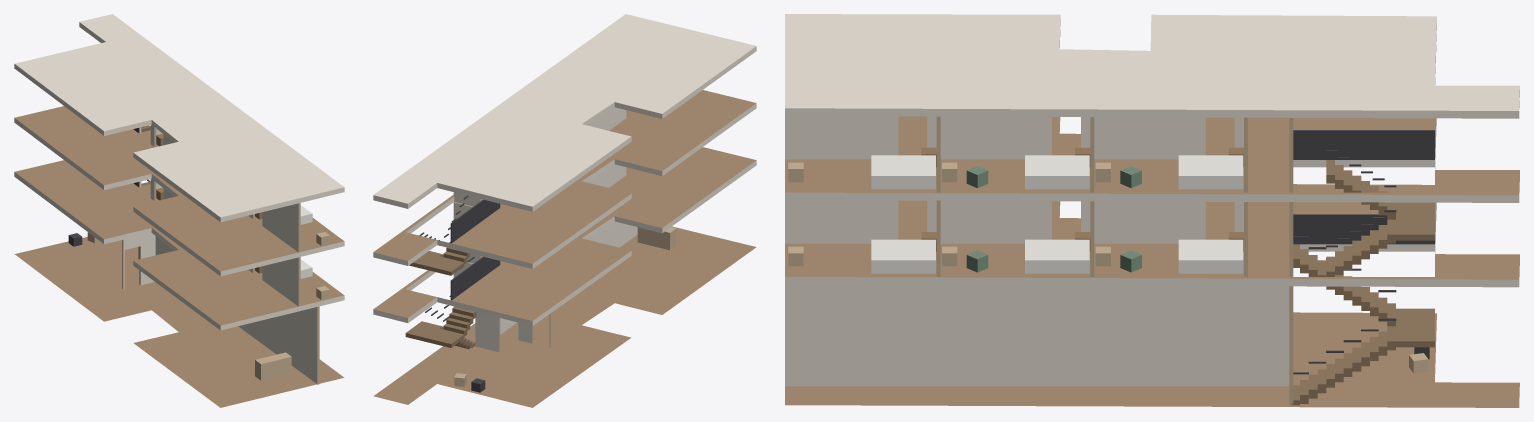
The model's file is interior.glb.
3 renders of one model, left to right at view 1: azimuth 30°, elevation 25°; view 2: azimuth 150°, elevation 25°; view 3: azimuth 270°, elevation 25°, orthographic. The views are drawn at different scales.
Visible parts, largest first — view 1: slabs, partitions, coarse-s0, coarse-s1, coarse-s2; view 2: slabs, stair, partitions, coarse-s0; view 3: slabs, partitions, stair, coarse-s2, coarse-s1.
Part boxes in pixels (x1=…): slabs: x1=14, y1=14, x2=344, y2=407; partitions: x1=122, y1=124, x2=319, y2=384; coarse-s0: x1=68, y1=232, x2=291, y2=380; coarse-s1: x1=156, y1=187, x2=329, y2=299; coarse-s2: x1=156, y1=133, x2=329, y2=245; slabs: x1=373, y1=14, x2=756, y2=407; stair: x1=405, y1=195, x2=500, y2=348; partitions: x1=453, y1=107, x2=637, y2=351; coarse-s0: x1=454, y1=227, x2=676, y2=392; slabs: x1=785, y1=14, x2=1519, y2=407; partitions: x1=785, y1=116, x2=1293, y2=405; stair: x1=1291, y1=130, x2=1434, y2=405; coarse-s2: x1=788, y1=147, x2=1243, y2=189; coarse-s1: x1=788, y1=232, x2=1243, y2=273.
Bounding box in the file's own units: 7.1 × 10.15 × 22.73.
